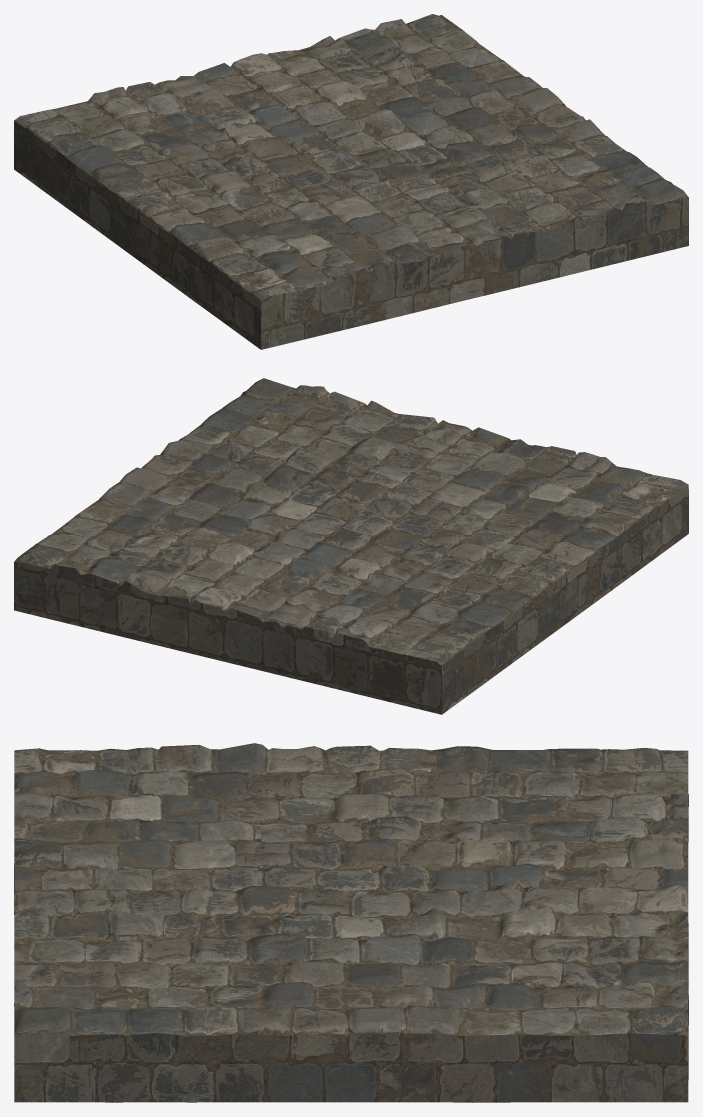
The model's file is SM_Walkway_4x4_02.fbx.
3 renders of one model, top to bottom at view 1: azimuth 30°, elevation 25°; view 2: azimuth 150°, elevation 25°; view 3: azimuth 270°, elevation 25°, orthographic. The views are drawn at different scales.
Parts seen in each view (by area): view 1: SM_Walkway_4x4_02_LOD0; view 2: SM_Walkway_4x4_02_LOD0; view 3: SM_Walkway_4x4_02_LOD0.
Boxes of the visible parts, box(x1,y1,x2,y2) form: SM_Walkway_4x4_02_LOD0: box(14, 14, 688, 349); SM_Walkway_4x4_02_LOD0: box(14, 378, 688, 714); SM_Walkway_4x4_02_LOD0: box(14, 743, 688, 1102).
Size of the model in its own units: 401 by 401 by 53.71.
